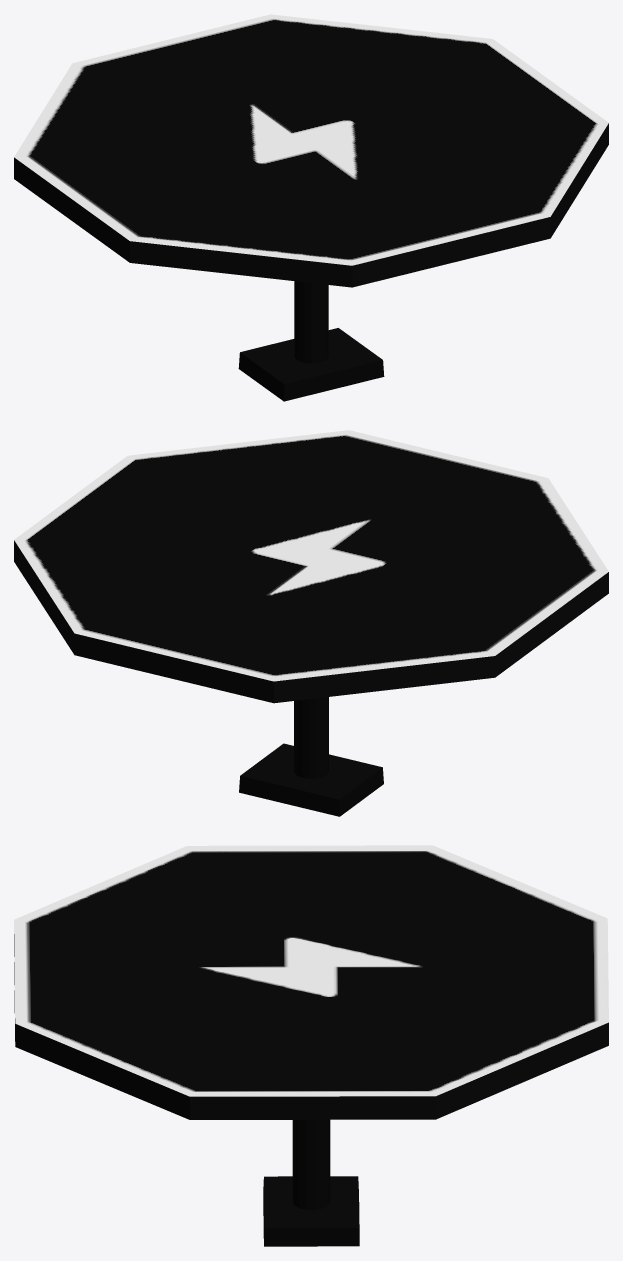
Rendered from poker_table.glb.
3 renders of one model, top to bottom at view 1: azimuth 30°, elevation 25°; view 2: azimuth 150°, elevation 25°; view 3: azimuth 270°, elevation 25°, orthographic. The views are drawn at different scales.
Visible parts, largest first — view 1: Cylinder, Cube.001, Cylinder.001; view 2: Cylinder, Cube.001, Cylinder.001; view 3: Cylinder, Cube.001, Cylinder.001.
Part boxes in pixels (x1,y1,x2,y2): Cylinder: (14,14,608,287); Cube.001: (238,328,384,401); Cylinder.001: (294,281,328,363); Cylinder: (14,430,608,703); Cube.001: (239,743,383,816); Cylinder.001: (294,697,328,778); Cylinder: (14,845,608,1119); Cube.001: (263,1176,359,1246); Cylinder.001: (292,1119,330,1209).
Bounding box in the file's own units: 2.37 × 1.1 × 2.37.
3 materials, 1 textured.
